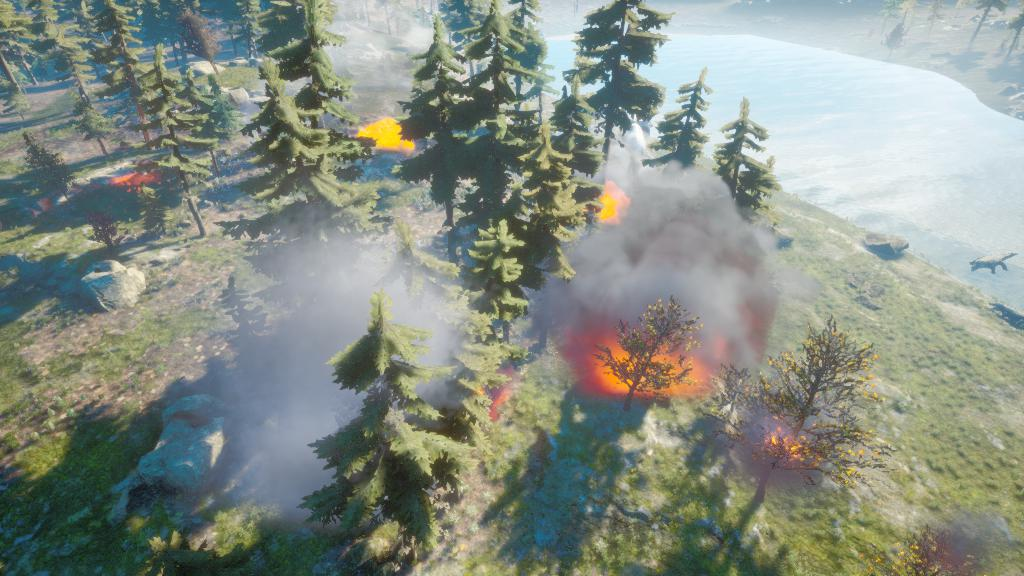Fire: (573, 327, 749, 403), (347, 113, 425, 164), (757, 420, 813, 474), (469, 372, 529, 422), (593, 177, 637, 233), (112, 172, 166, 201)
smoke: (202, 245, 454, 500), (540, 166, 787, 397)
